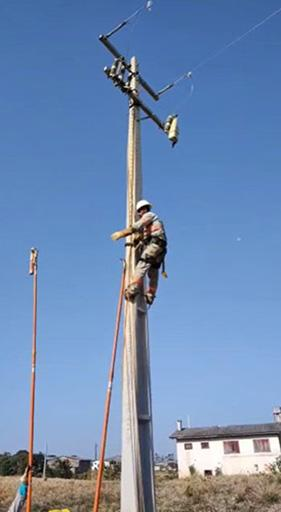Vara_Manobra: (93, 267, 127, 512), (25, 270, 38, 512)
